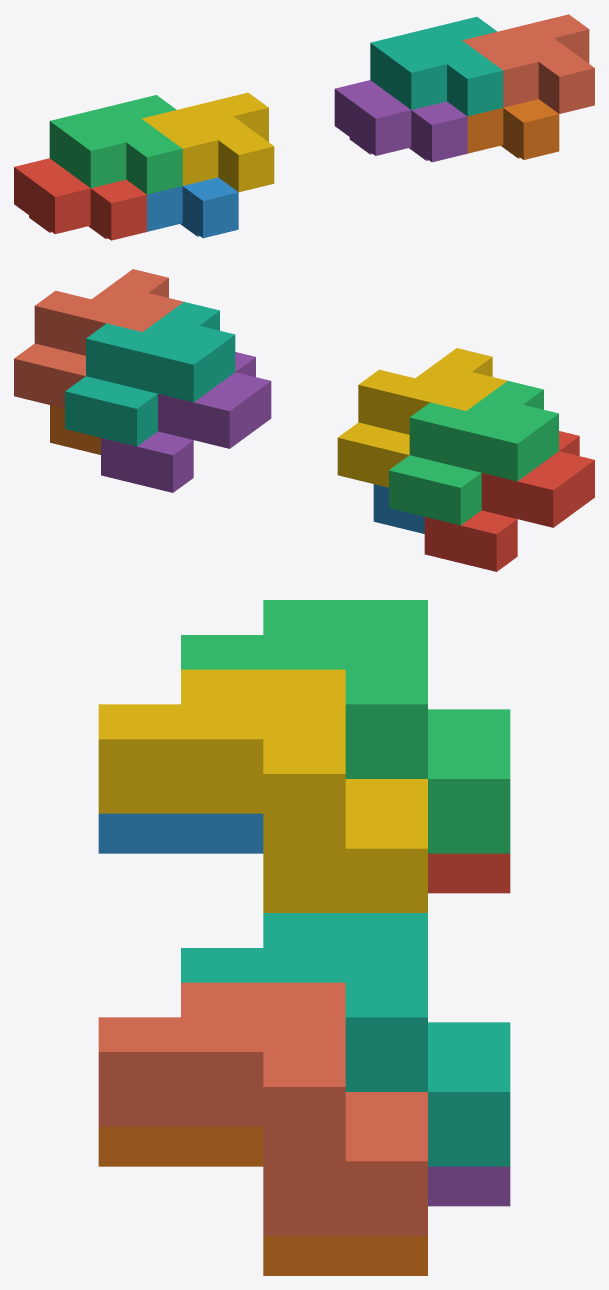
File: tiling.obj
3 renders of one model, top to bottom at view 1: azimuth 30°, elevation 25°; view 2: azimuth 150°, elevation 25°; view 3: azimuth 270°, elevation 25°, orthographic. The views are drawn at different scales.
Parts seen in each view (by area): view 1: copy_1_domain_3, copy_1_domain_7, copy_1_domain_4, copy_1_domain_8, copy_1_domain_5, copy_1_domain_1, copy_1_domain_6, copy_1_domain_2; view 2: copy_1_domain_3, copy_1_domain_7, copy_1_domain_1, copy_1_domain_5, copy_1_domain_4, copy_1_domain_8, copy_1_domain_2, copy_1_domain_6; view 3: copy_1_domain_8, copy_1_domain_4, copy_1_domain_3, copy_1_domain_7, copy_1_domain_6, copy_1_domain_2, copy_1_domain_1, copy_1_domain_5.
Boxes of the visible parts, x1,y1,x2,y2 form: copy_1_domain_3: [49, 95, 182, 194]; copy_1_domain_7: [370, 16, 503, 116]; copy_1_domain_4: [142, 92, 274, 192]; copy_1_domain_8: [462, 14, 594, 113]; copy_1_domain_5: [334, 80, 467, 162]; copy_1_domain_1: [14, 158, 146, 240]; copy_1_domain_6: [467, 99, 559, 159]; copy_1_domain_2: [147, 177, 238, 238]; copy_1_domain_3: [389, 381, 558, 525]; copy_1_domain_7: [65, 301, 235, 446]; copy_1_domain_1: [424, 431, 594, 571]; copy_1_domain_5: [101, 352, 271, 492]; copy_1_domain_4: [337, 348, 507, 487]; copy_1_domain_8: [14, 269, 183, 408]; copy_1_domain_2: [373, 484, 424, 533]; copy_1_domain_6: [50, 405, 100, 454]; copy_1_domain_8: [98, 982, 427, 1235]; copy_1_domain_4: [98, 669, 427, 912]; copy_1_domain_3: [181, 600, 510, 853]; copy_1_domain_7: [181, 913, 510, 1166]; copy_1_domain_6: [98, 1126, 427, 1275]; copy_1_domain_2: [98, 813, 263, 853]; copy_1_domain_1: [428, 853, 510, 893]; copy_1_domain_5: [428, 1166, 510, 1206].
Size of the model in its own units: 15 by 3 by 5.
